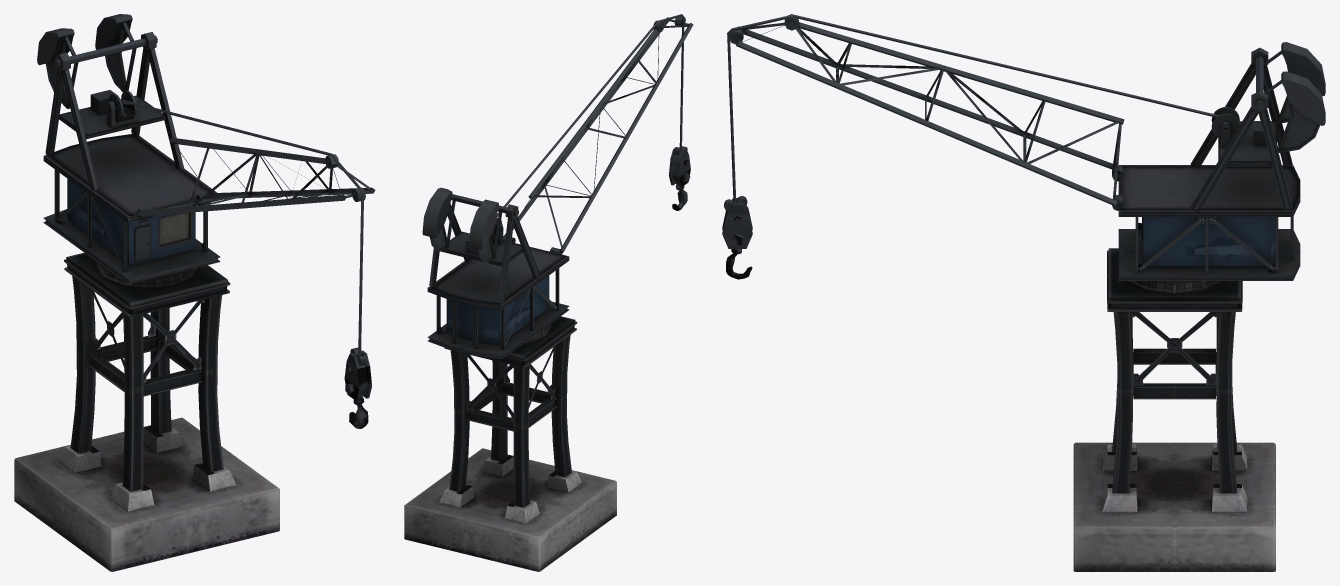
The picture shows the model from 3 angles, left to right: view 1: azimuth 30°, elevation 25°; view 2: azimuth 150°, elevation 25°; view 3: azimuth 270°, elevation 25°; orthographic projection. The views are drawn at different scales.
Parts seen in each view (by area): view 1: body0_model0_lod0_mesh0; view 2: body0_model0_lod0_mesh0; view 3: body0_model0_lod0_mesh0.
Boxes of the visible parts, x1=… form: body0_model0_lod0_mesh0: x1=14, y1=14, x2=375, y2=571; body0_model0_lod0_mesh0: x1=404, y1=14, x2=693, y2=571; body0_model0_lod0_mesh0: x1=722, y1=14, x2=1325, y2=571.
Size of the model in its own units: 512 by 1438 by 1528.
Materials: 1 (1 with a texture image).
